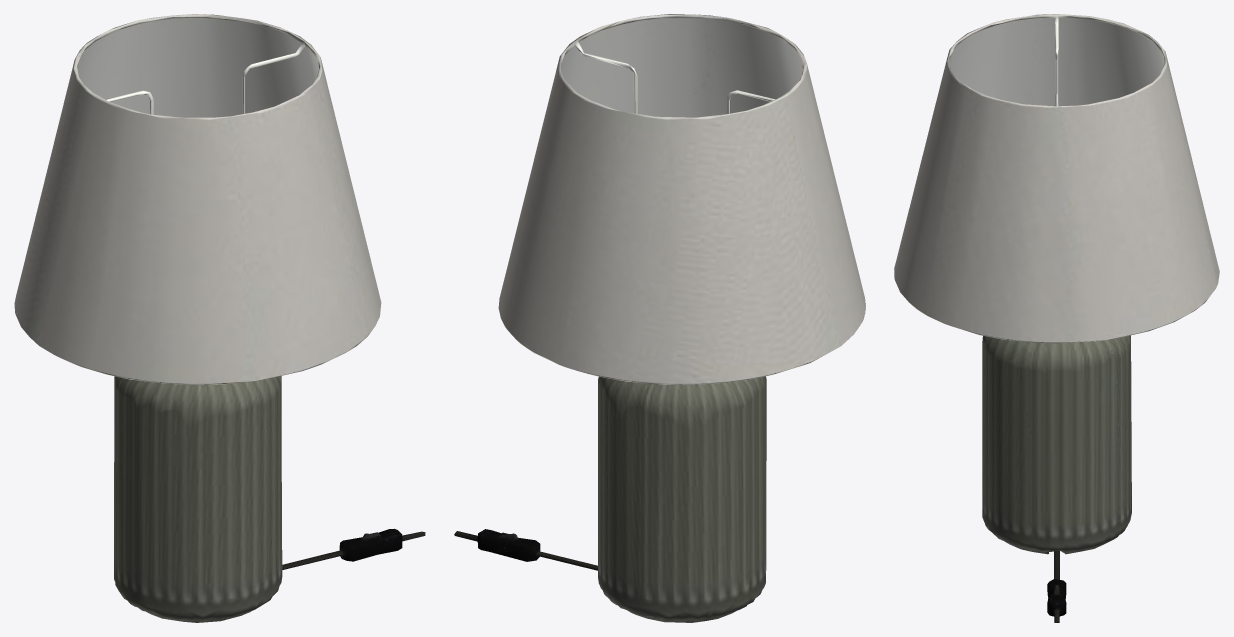
File: 13 - SNÖBYAR Table lamp - grey-turquoise ceramicgrey 52 cm.glb
The picture shows the model from 3 angles, left to right: view 1: azimuth 30°, elevation 25°; view 2: azimuth 150°, elevation 25°; view 3: azimuth 270°, elevation 25°; orthographic projection. The views are drawn at different scales.
Parts seen in each view (by area): view 1: ProcessedMeshNode; view 2: ProcessedMeshNode; view 3: ProcessedMeshNode.
Part boxes in pixels (bbox=[...]): ProcessedMeshNode: bbox=[14, 14, 425, 622]; ProcessedMeshNode: bbox=[454, 14, 865, 622]; ProcessedMeshNode: bbox=[894, 14, 1219, 622].
Bounding box in the file's own units: 0.3999 × 0.5255 × 0.33.
Materials: 1 (1 with a texture image).
